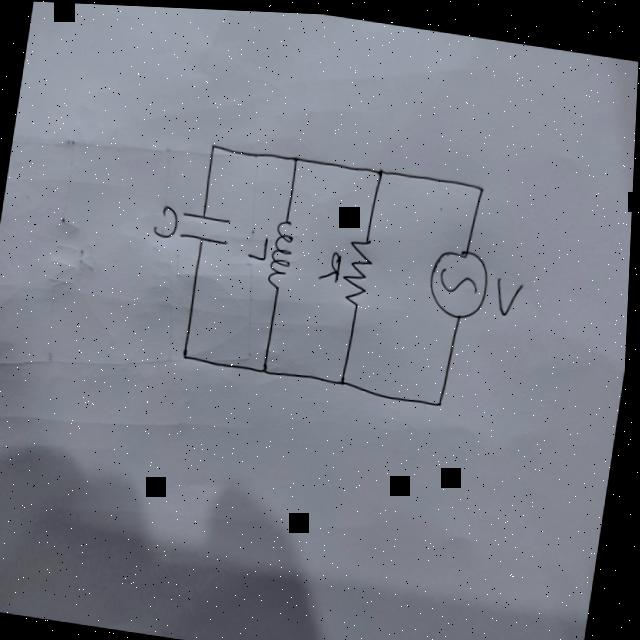capacitor: (179, 207, 234, 244)
inductor: (267, 212, 298, 289)
junction: (260, 355, 276, 373), (375, 158, 388, 176), (183, 344, 193, 359), (291, 148, 301, 161), (340, 370, 350, 382), (210, 137, 219, 149), (438, 392, 447, 403), (478, 177, 487, 188)
resistor: (339, 229, 378, 303)
source: (427, 238, 497, 317)
text: (492, 269, 526, 313), (153, 199, 183, 237), (319, 244, 345, 279), (248, 228, 272, 257)
